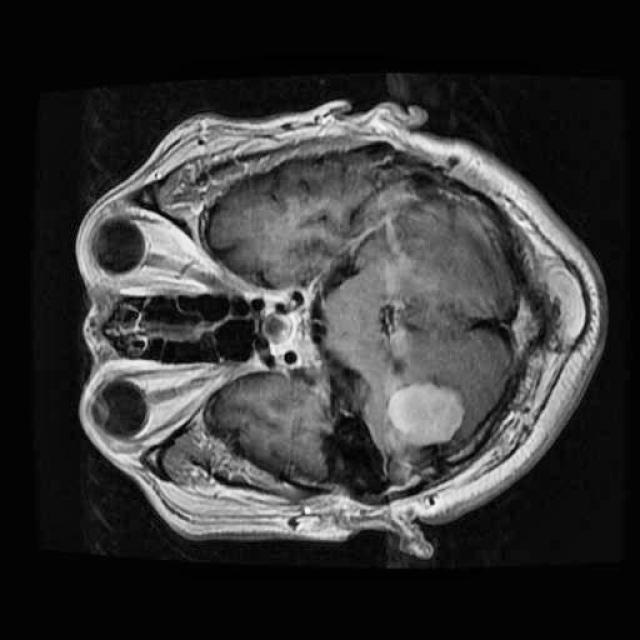Tumor: (378, 372, 474, 455)
